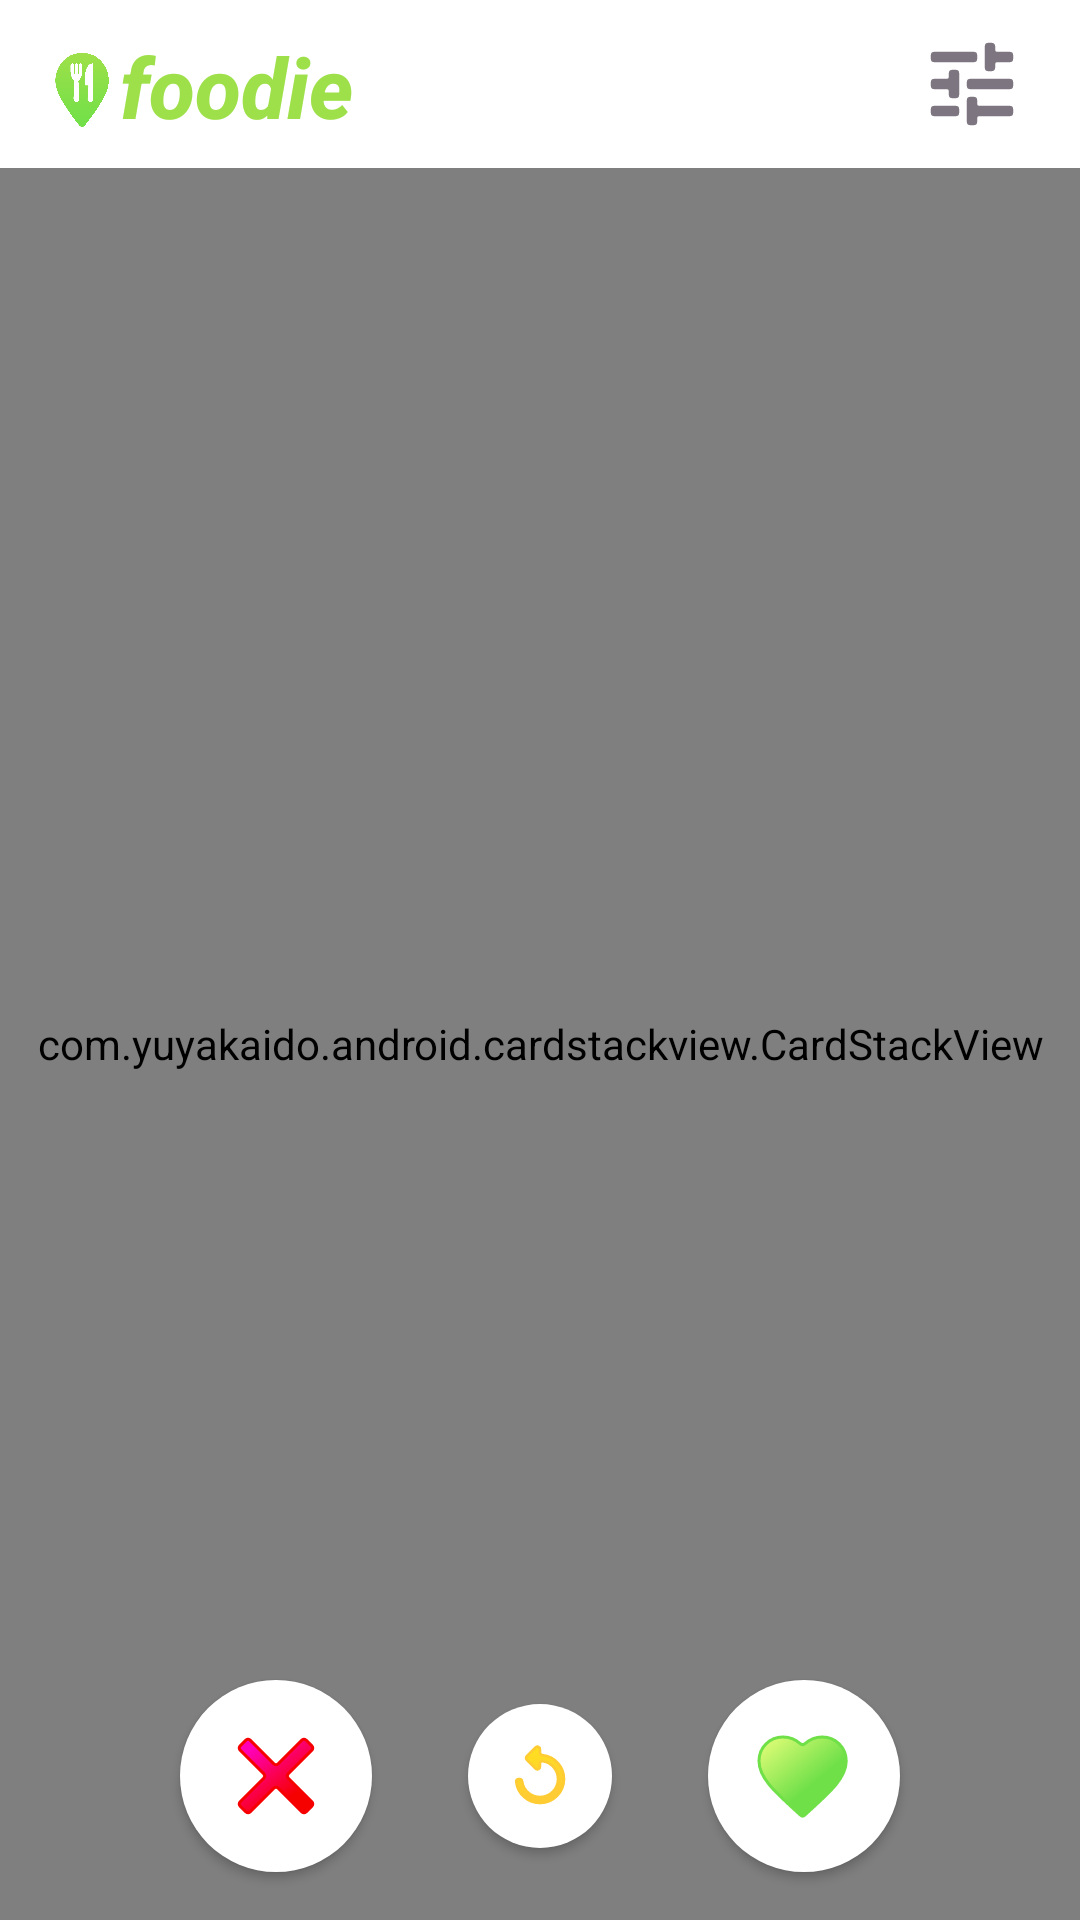

Icons on this 1080x1920 Android screen, each with its box as bbox(x1, y1, x2, y2):
like: bbox(708, 1680, 900, 1872)
nope: bbox(180, 1680, 372, 1872)
preferences: bbox(930, 42, 1014, 126)
undo: bbox(468, 1704, 612, 1848)
